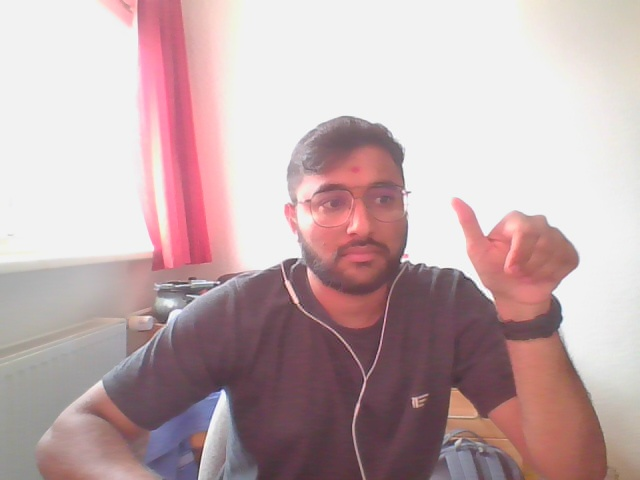ThumbsUp: (450, 196, 579, 301)
